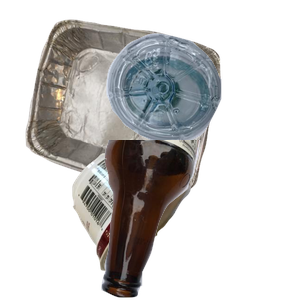glass: (99, 140, 300, 300)
metal: (23, 17, 236, 197)
plastic: (104, 31, 300, 168)
trash: (70, 149, 254, 300)
